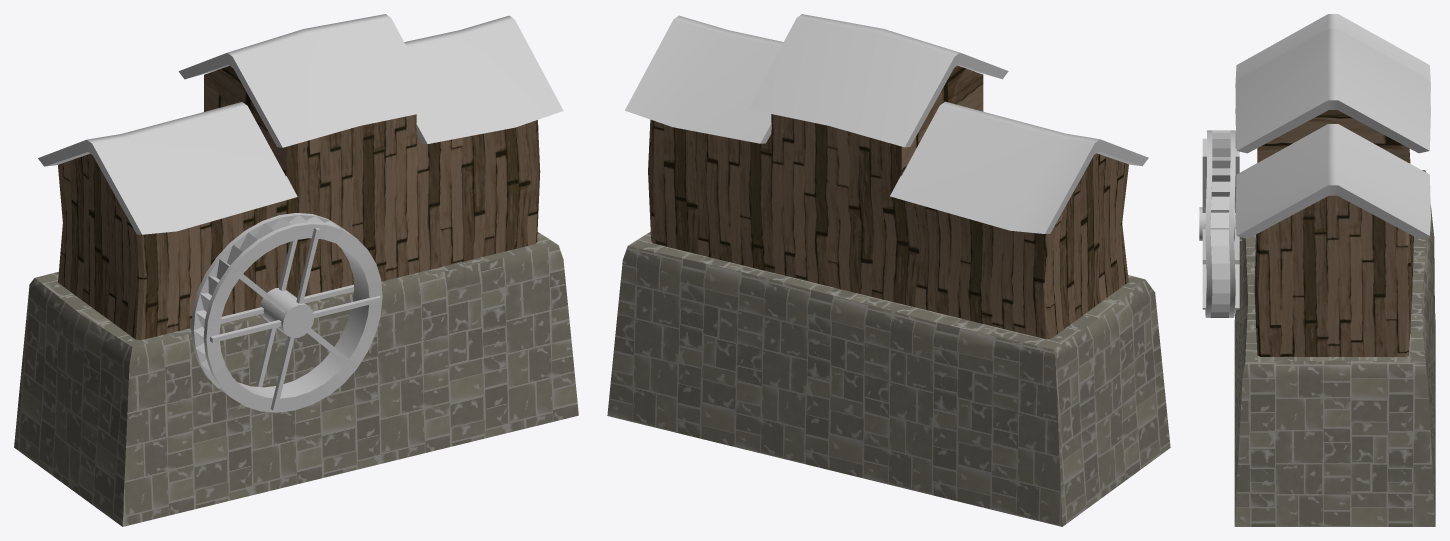
File: GGJ_Building_WaterMill_01.fbx
The picture shows the model from 3 angles, left to right: view 1: azimuth 30°, elevation 25°; view 2: azimuth 150°, elevation 25°; view 3: azimuth 270°, elevation 25°; orthographic projection. The views are drawn at different scales.
Visible parts, largest first — view 1: GGJ_Building_WaterMill_01; view 2: GGJ_Building_WaterMill_01; view 3: GGJ_Building_WaterMill_01.
Boxes of the visible parts, x1,y1,x2,y2 form: GGJ_Building_WaterMill_01: [14, 14, 578, 526]; GGJ_Building_WaterMill_01: [607, 14, 1170, 526]; GGJ_Building_WaterMill_01: [1199, 14, 1435, 526].
Bounding box in the file's own units: 7.79 × 6.51 × 3.77.
